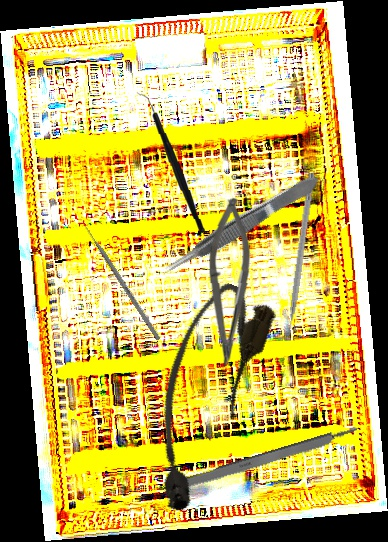Cannula: (123, 274, 282, 520)
Chopper: (135, 88, 206, 236), (275, 171, 316, 343)
Micro Scissor: (208, 197, 253, 369)
Pusher: (77, 216, 162, 341)
Scalpel Handle: (159, 423, 363, 499)
Tissue Forceps: (159, 171, 325, 280)
